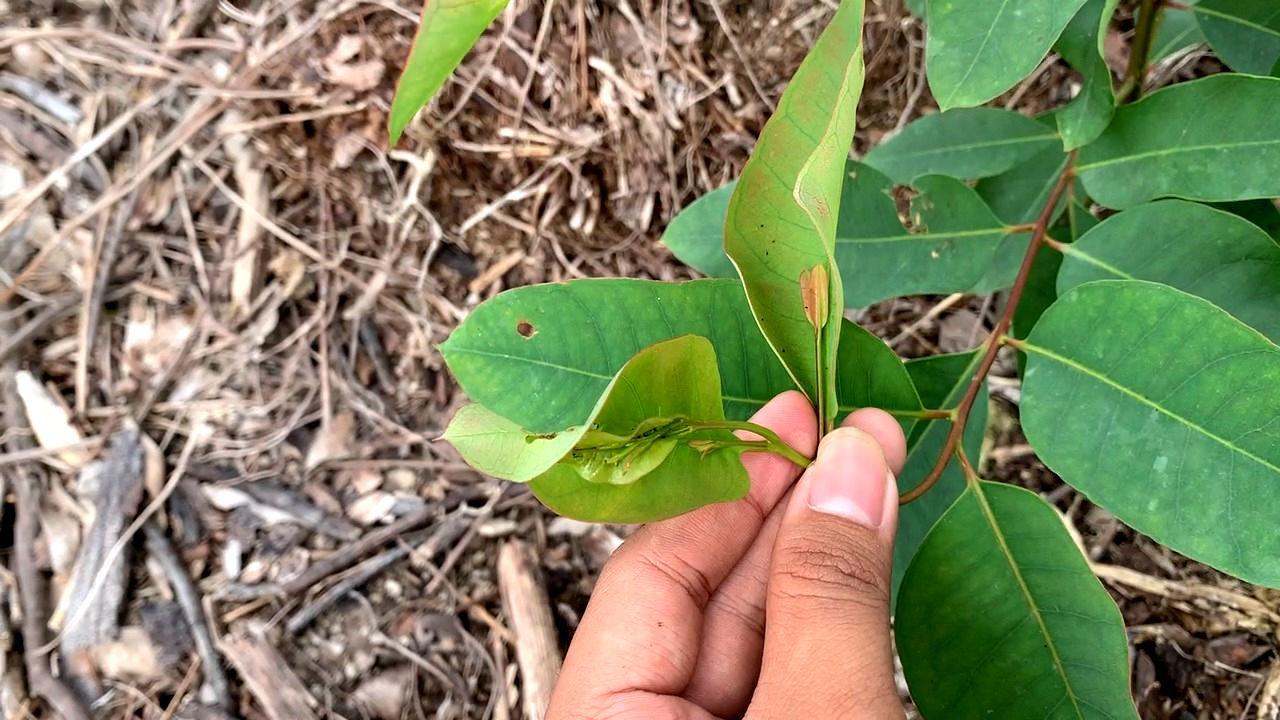Leaf Roller - Leaf: (459, 332, 746, 532)
